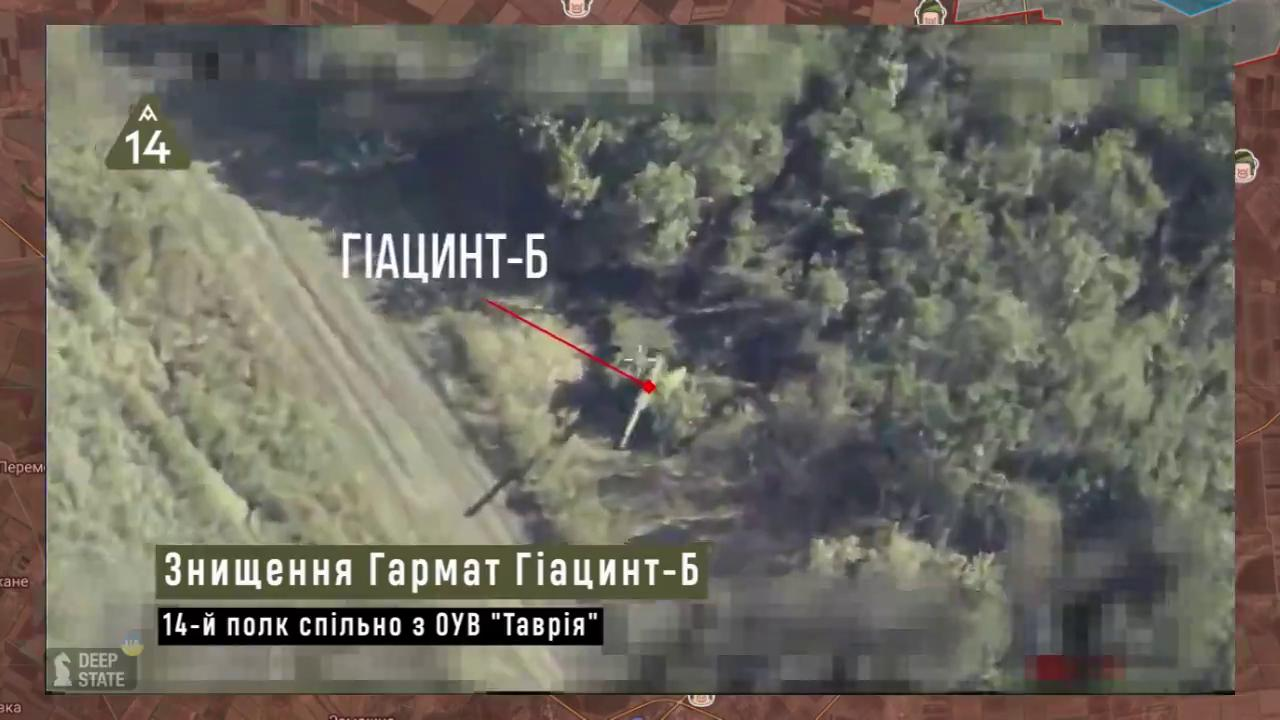tank: (572, 336, 709, 461)
